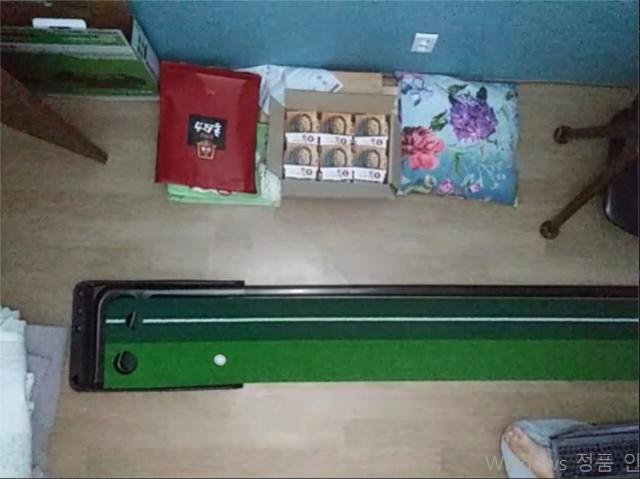golf_ball: (212, 352, 229, 369)
green_zone: (103, 298, 637, 388)
hole: (113, 350, 139, 376), (125, 310, 143, 331)
